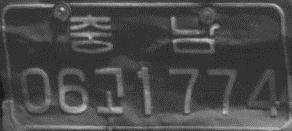0: (19, 67, 52, 115)
1: (130, 66, 161, 115)
4: (246, 67, 281, 118)
6: (57, 66, 88, 114)
7: (206, 66, 237, 116), (168, 66, 199, 114)
고: (94, 66, 126, 115)
충남_D: (68, 12, 219, 54)
